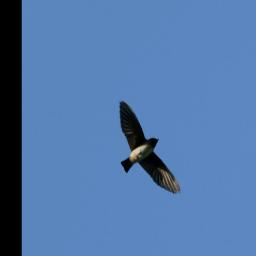Swallow: (96, 101, 202, 198)
